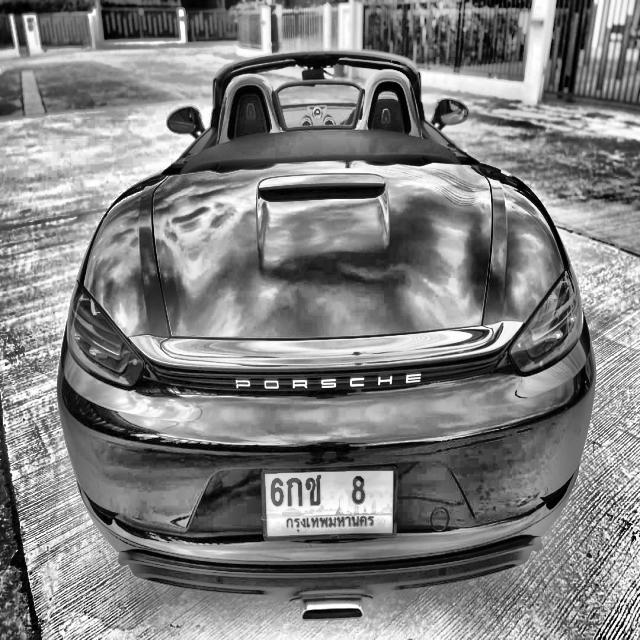license-plate: (253, 458, 405, 548)
